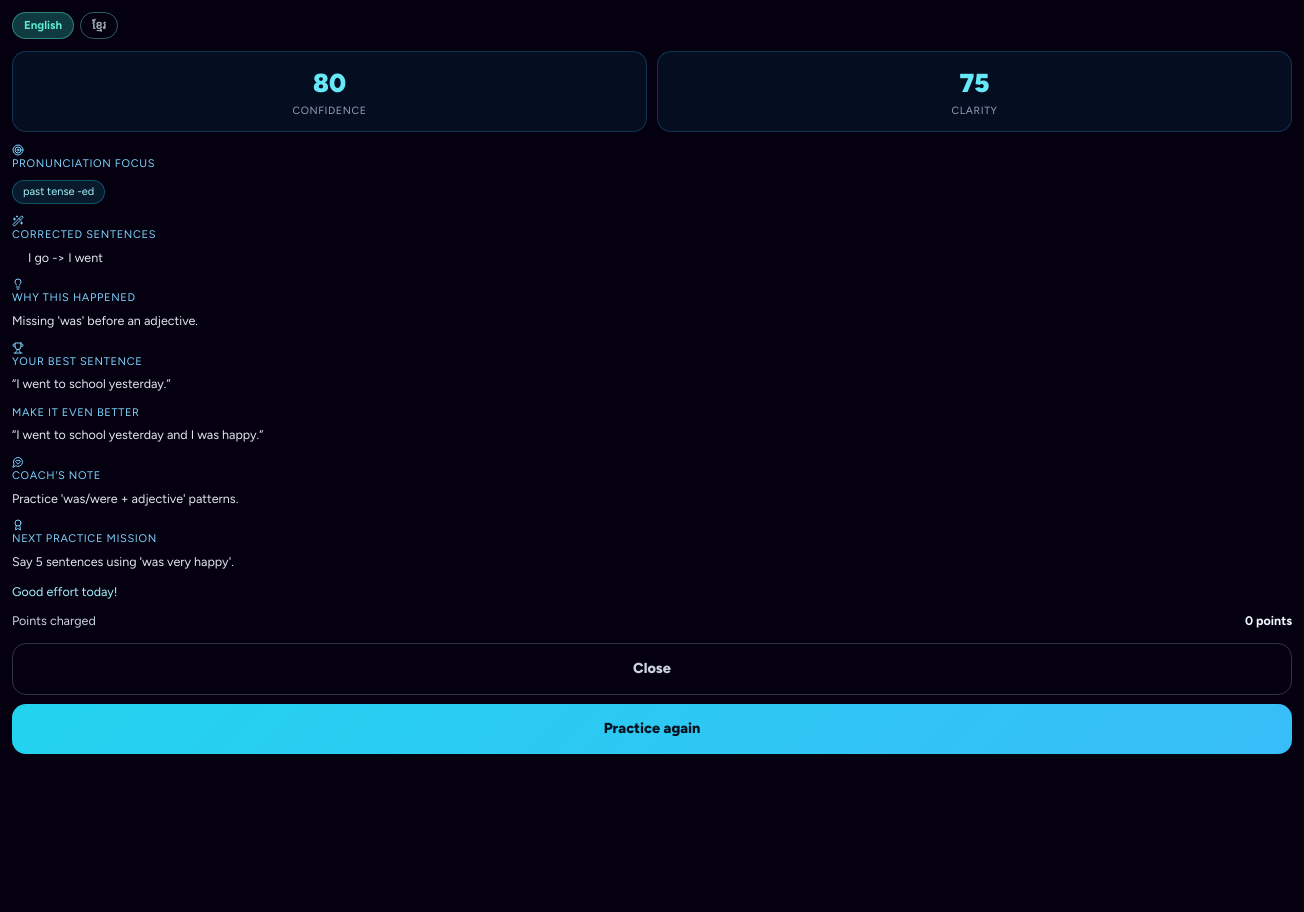
clicking the language toggle switches all bilingual fields together
What coordinates should you click on to do the following:
click the button with test id "live-report-lang-km"
I would click on:
 (99, 26)
Its box is top-left (80, 12), bottom-right (118, 39).
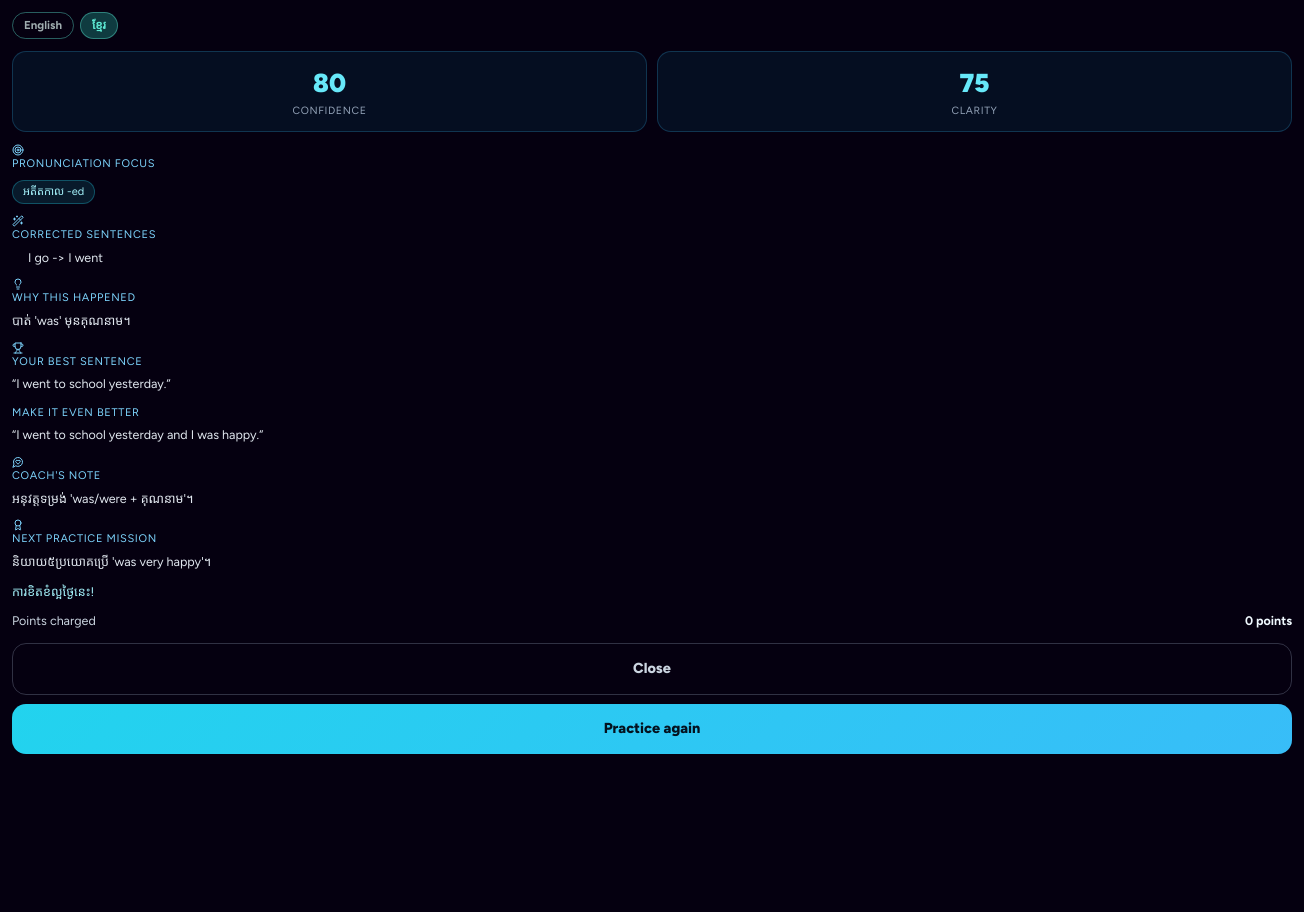
Result: the text with test id "live-report-pronunciation-focus" reads "អតីតកាល -ed" at top-left (23, 184), bottom-right (84, 198)
Result: the element with test id "live-report-mistake-explanation" shows "បាត់ 'was' មុនគុណនាម។" at top-left (12, 313), bottom-right (131, 328)
Result: the element with test id "live-report-coaching-note" shows "អនុវត្តទម្រង់ 'was/were + គុណនាម'។" at top-left (12, 490), bottom-right (193, 506)
What coordinates should you click on to do the following:
click the button with test id "live-report-lang-en"
I would click on:
 (43, 26)
Its box is top-left (12, 12), bottom-right (74, 39).
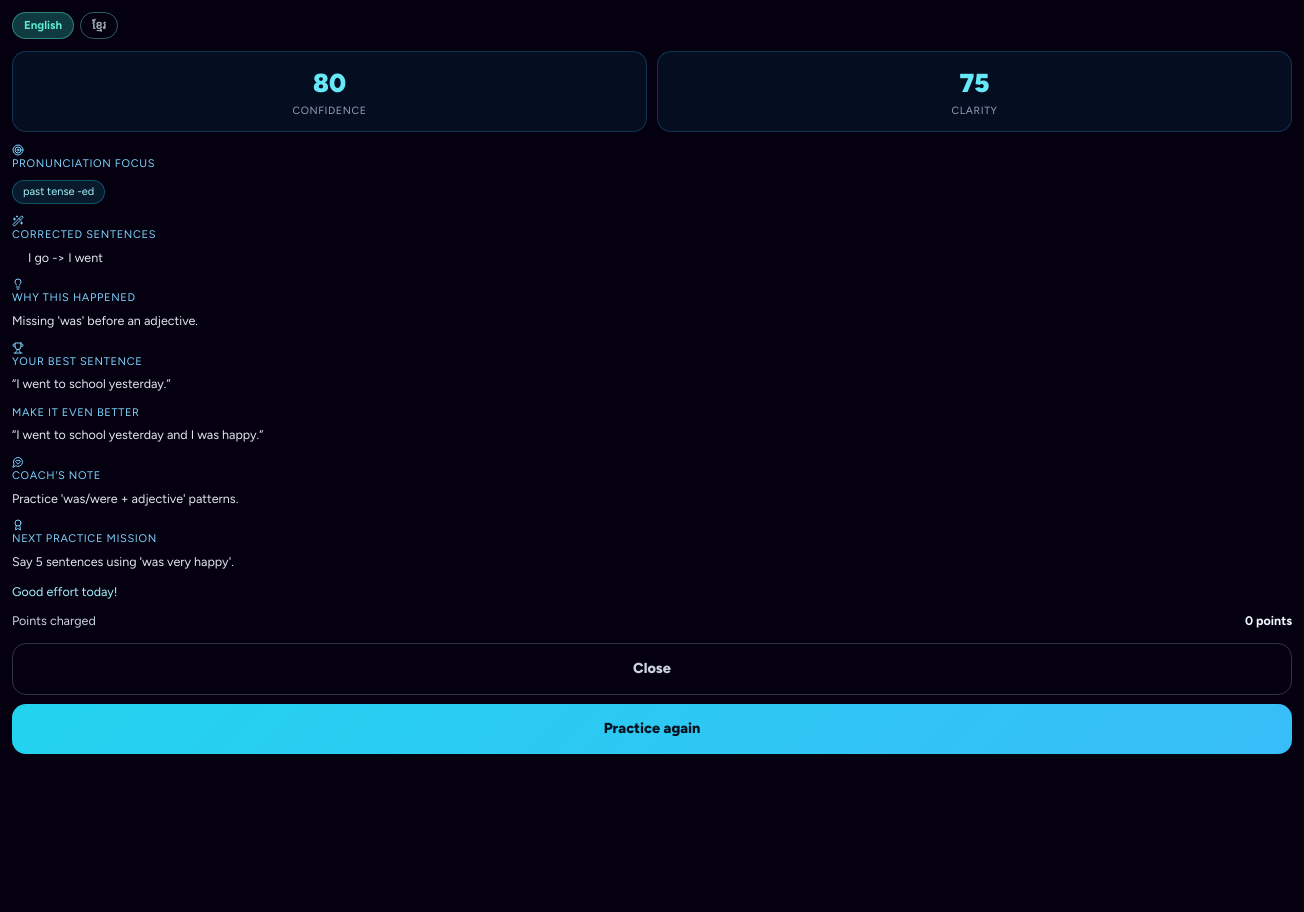
Result: the text with test id "live-report-pronunciation-focus" reads "past tense -ed" at top-left (23, 184), bottom-right (94, 198)
